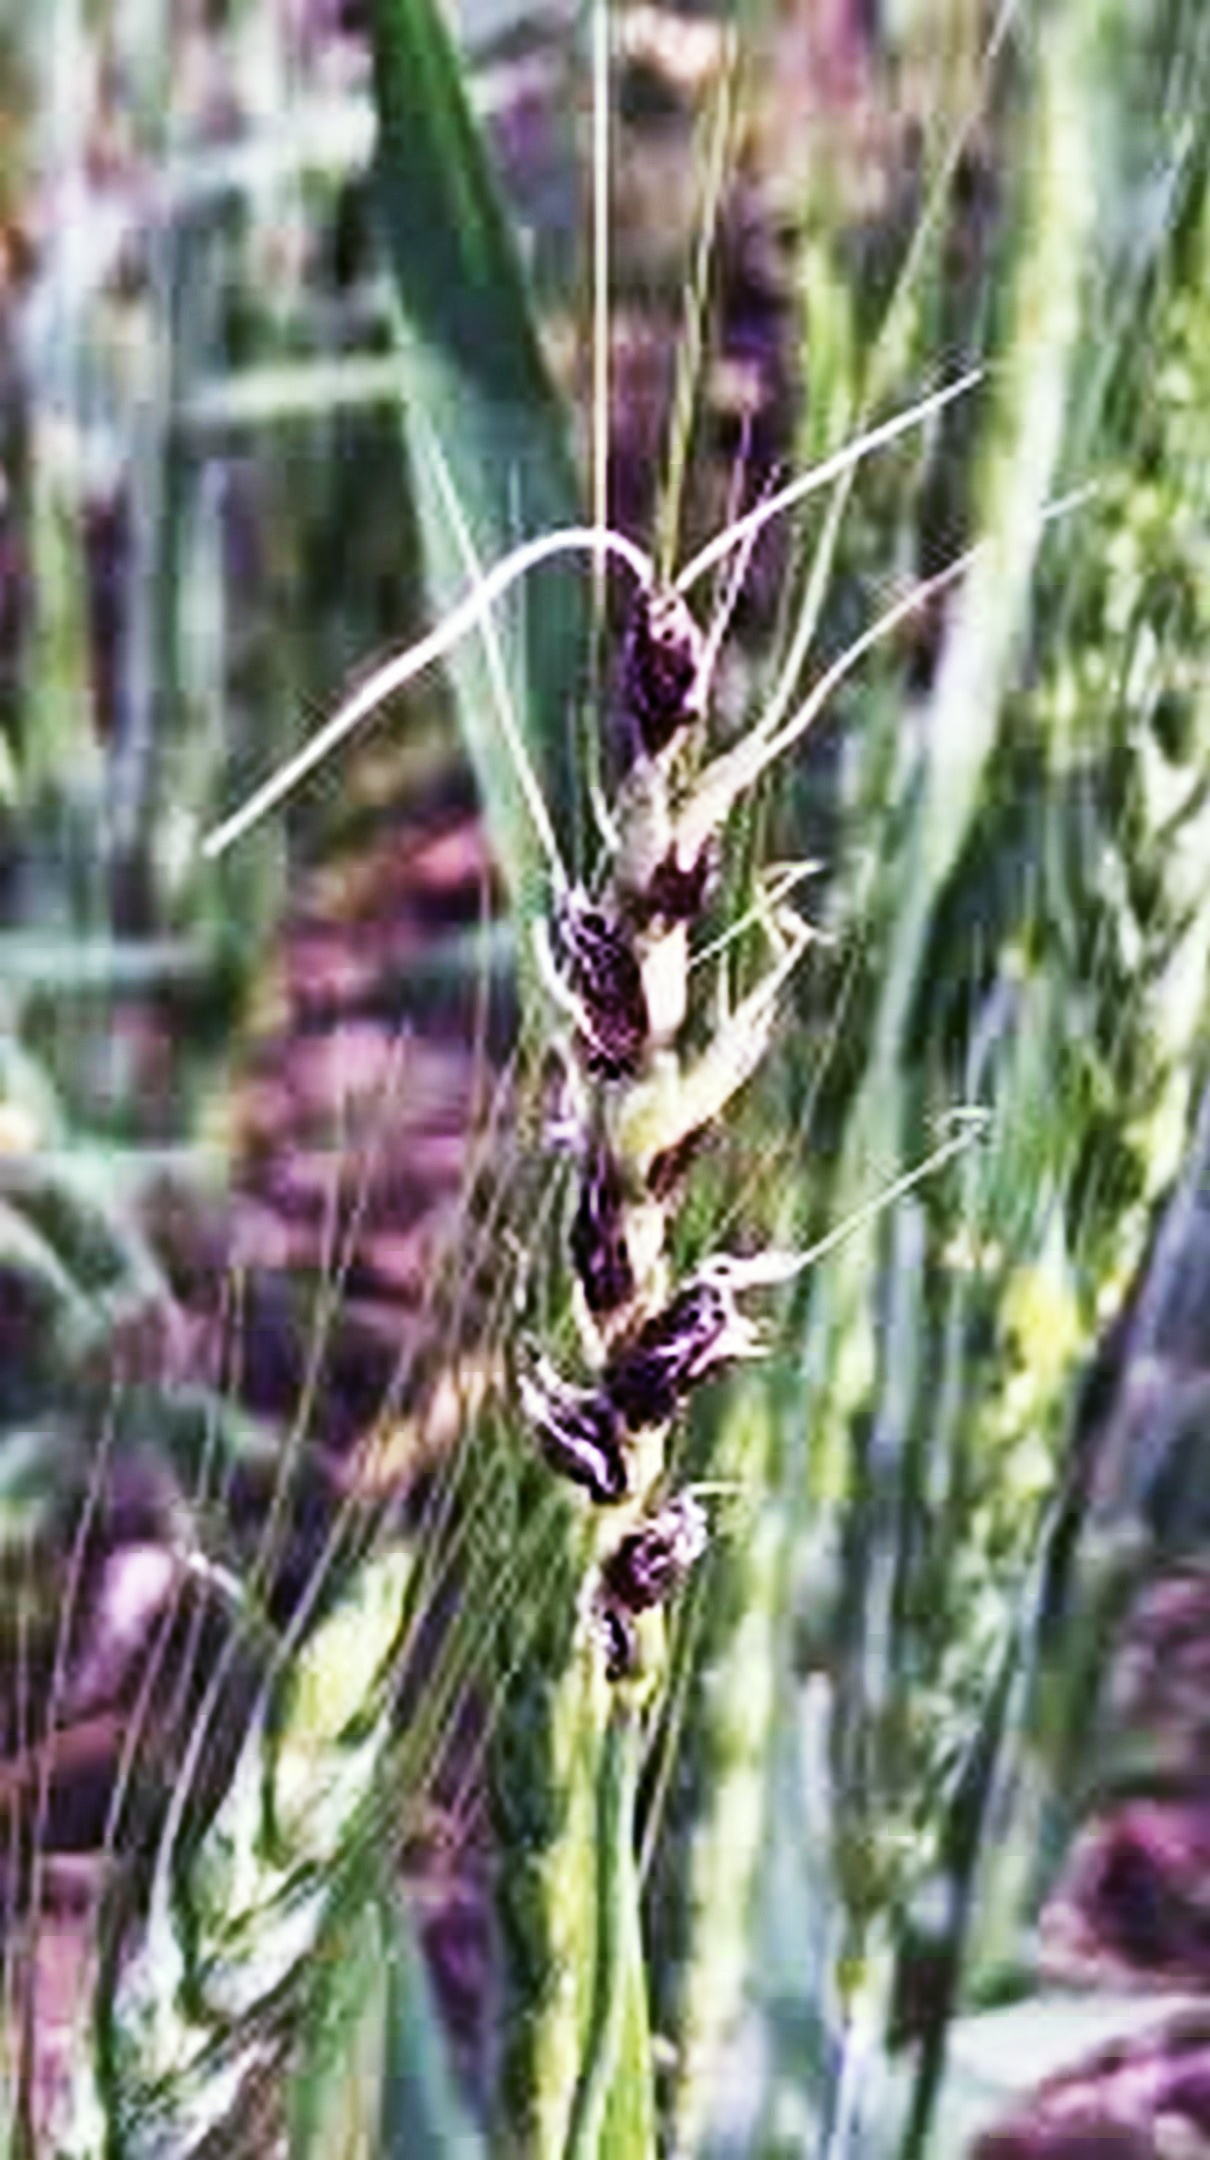Wheat Loose Smut: (497, 590, 774, 1630)
